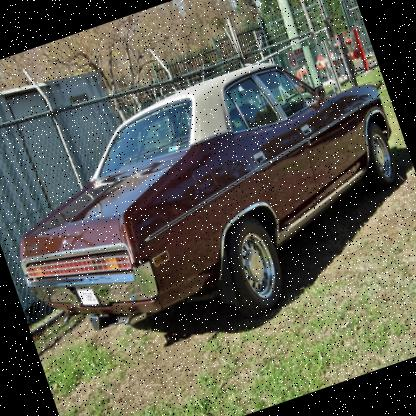Car: (0, 29, 415, 385)
